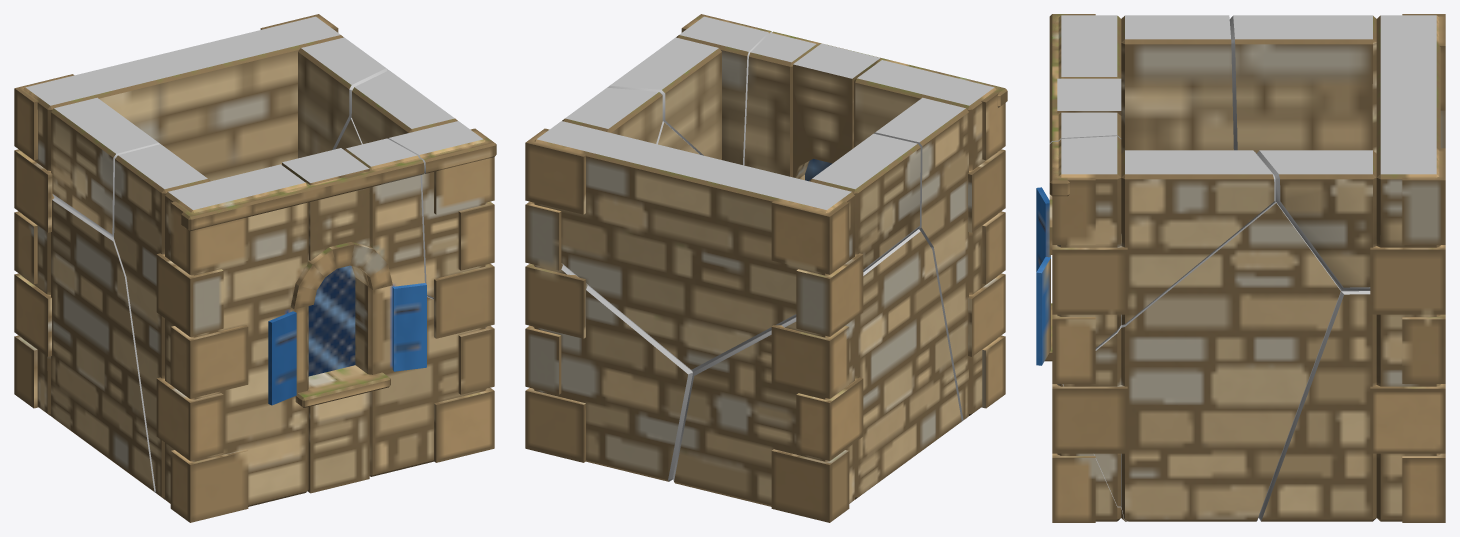
Rendered from Kit_Gate_TowerWindow_Fractured.fbx.
3 renders of one model, left to right at view 1: azimuth 30°, elevation 25°; view 2: azimuth 150°, elevation 25°; view 3: azimuth 270°, elevation 25°, orthographic. The views are drawn at different scales.
Parts seen in each view (by area): view 1: Kit_Gate_TowerWindow_frag_02, Kit_Gate_TowerWindow_frag_04, Kit_Gate_TowerWindow_frag_07, Kit_Gate_TowerWindow_frag_01, Kit_Gate_TowerWindow_frag_06; view 2: Kit_Gate_TowerWindow_frag_07, Kit_Gate_TowerWindow_frag_01, Kit_Gate_TowerWindow_frag_04, Kit_Gate_TowerWindow_frag_05, Kit_Gate_TowerWindow_frag_06, Kit_Gate_TowerWindow_frag_02, Kit_Gate_TowerWindow_frag_03; view 3: Kit_Gate_TowerWindow_frag_07, Kit_Gate_TowerWindow_frag_03, Kit_Gate_TowerWindow_frag_06, Kit_Gate_TowerWindow_frag_05, Kit_Gate_TowerWindow_frag_04, Kit_Gate_TowerWindow_frag_02.
Boxes of the visible parts, x1,y1,x2,y2 form: Kit_Gate_TowerWindow_frag_02: [126, 265, 494, 522]; Kit_Gate_TowerWindow_frag_04: [114, 138, 424, 337]; Kit_Gate_TowerWindow_frag_07: [14, 14, 388, 237]; Kit_Gate_TowerWindow_frag_01: [14, 198, 155, 492]; Kit_Gate_TowerWindow_frag_06: [351, 70, 496, 338]; Kit_Gate_TowerWindow_frag_07: [525, 87, 920, 372]; Kit_Gate_TowerWindow_frag_01: [673, 229, 961, 522]; Kit_Gate_TowerWindow_frag_04: [744, 31, 1007, 247]; Kit_Gate_TowerWindow_frag_05: [525, 263, 692, 481]; Kit_Gate_TowerWindow_frag_06: [607, 14, 772, 165]; Kit_Gate_TowerWindow_frag_02: [805, 159, 1005, 421]; Kit_Gate_TowerWindow_frag_03: [656, 121, 699, 154]; Kit_Gate_TowerWindow_frag_07: [1229, 14, 1445, 314]; Kit_Gate_TowerWindow_frag_03: [1063, 201, 1341, 521]; Kit_Gate_TowerWindow_frag_06: [1049, 136, 1275, 383]; Kit_Gate_TowerWindow_frag_05: [1258, 291, 1445, 522]; Kit_Gate_TowerWindow_frag_04: [1049, 14, 1233, 254]; Kit_Gate_TowerWindow_frag_02: [1036, 187, 1127, 522].
Size of what is drawn, in the model's own units: 3.12 by 3 by 3.2.
